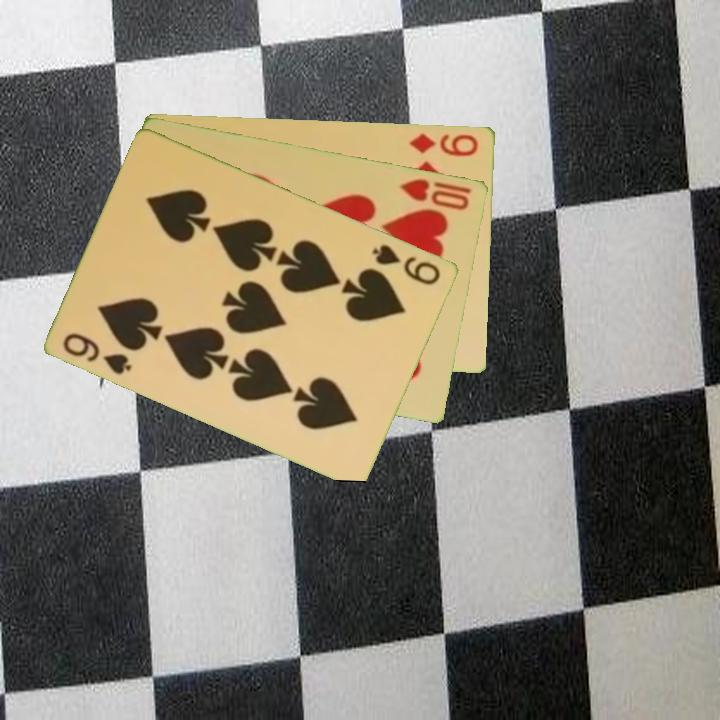10h: (396, 174, 475, 213)
9d: (406, 130, 482, 159)
9s: (60, 329, 136, 377), (369, 240, 444, 288)
